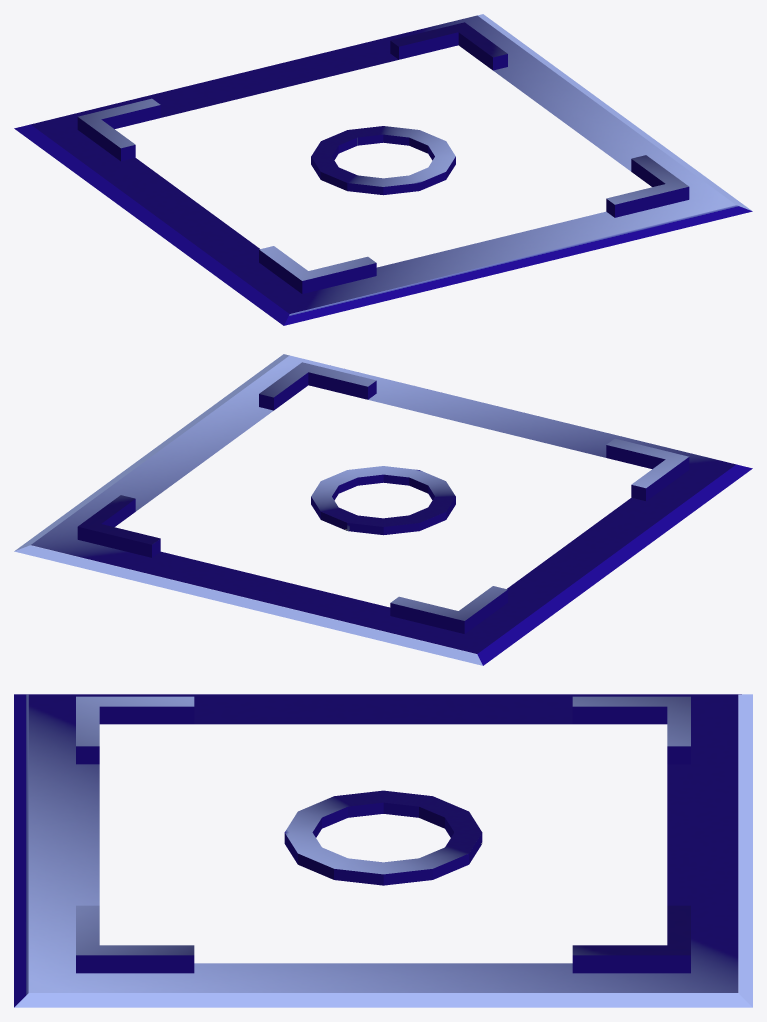
File: crosshair.obj
3 views of the same model, one above another, from view 1: azimuth 30°, elevation 25°; view 2: azimuth 150°, elevation 25°; view 3: azimuth 270°, elevation 25° (orthographic). The views are drawn at different scales.
Visible parts, largest first — view 1: Plane, Border_Cube, CylinderInner_Cylinder.001; view 2: Plane, Border_Cube, CylinderInner_Cylinder.001; view 3: Plane, Border_Cube, CylinderInner_Cylinder.001.
Boxes of the visible parts, <box> form: Plane: <box>14,14,752,325</box>; Border_Cube: <box>77,22,689,293</box>; CylinderInner_Cylinder.001: <box>311,126,455,195</box>; Plane: <box>14,354,752,665</box>; Border_Cube: <box>77,362,689,633</box>; CylinderInner_Cylinder.001: <box>311,466,455,535</box>; Plane: <box>14,694,752,1007</box>; Border_Cube: <box>76,696,690,973</box>; CylinderInner_Cylinder.001: <box>284,790,482,885</box>.
Size of the model in its own units: 6 by 0.2235 by 5.97.
Materials: 1 (1 with a texture image).
